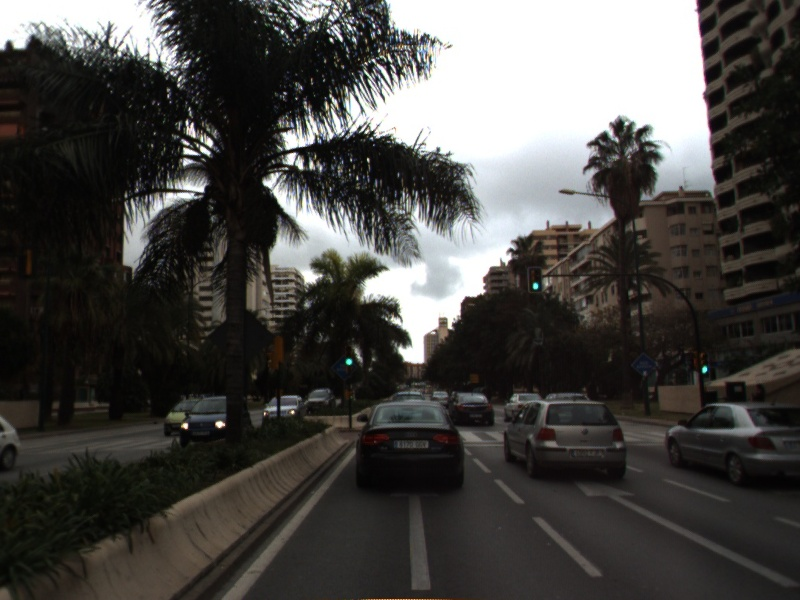STRAIGHT: (573, 474, 800, 590)
